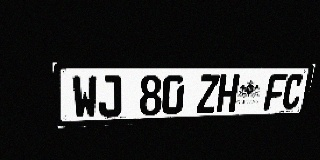0: (161, 75, 185, 115)
8: (139, 75, 163, 116)
C: (281, 74, 305, 110)
F: (263, 74, 287, 110)
H: (216, 74, 240, 112)
J: (97, 75, 122, 118)
W: (71, 75, 98, 119)
Z: (196, 75, 220, 113)
